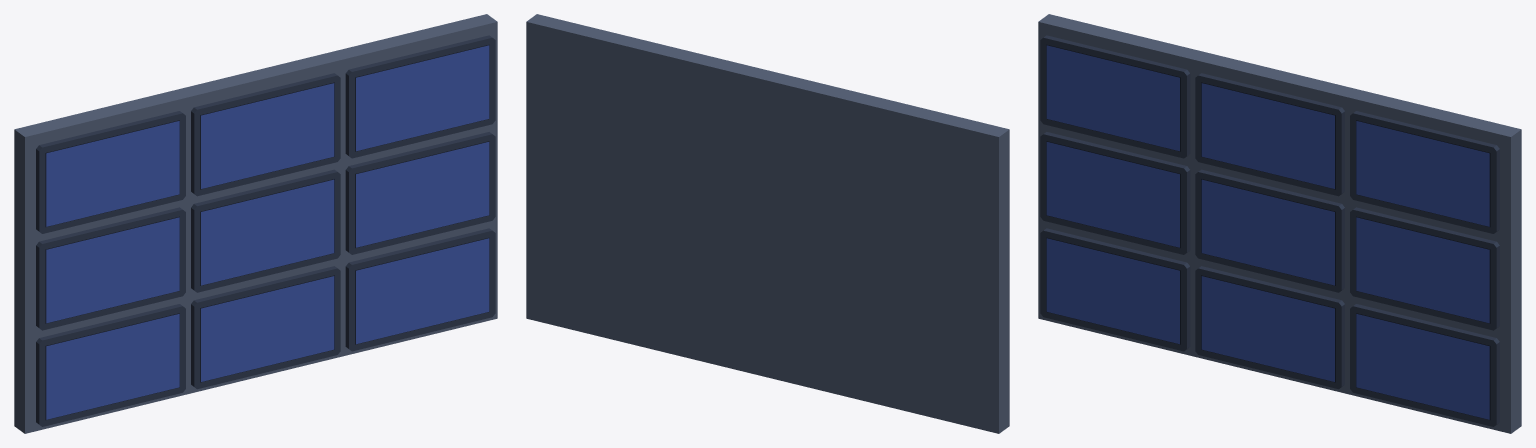
Rendered from res_cctv_monitor_wall.glb.
The picture shows the model from 3 angles, left to right: view 1: azimuth 30°, elevation 25°; view 2: azimuth 150°, elevation 25°; view 3: azimuth 330°, elevation 25°; orthographic projection.
Visible parts, largest first — view 1: print, print.001, screen_bezel, video_wall_mount, standby_glass; view 2: video_wall_mount; view 3: print, print.001, screen_bezel, video_wall_mount, standby_glass.
Boxes of the visible parts, box(x1,y1,x2,y2) form: print: box(46, 45, 489, 419); print.001: box(46, 83, 489, 381); screen_bezel: box(36, 35, 495, 426); video_wall_mount: box(14, 14, 497, 433); standby_glass: box(45, 44, 489, 420); video_wall_mount: box(526, 14, 1009, 433); print: box(1046, 45, 1489, 419); print.001: box(1046, 83, 1489, 381); screen_bezel: box(1040, 35, 1499, 426); video_wall_mount: box(1038, 14, 1521, 433); standby_glass: box(1046, 44, 1490, 420).
Bounding box in the file's own units: 4 × 2.4 × 0.25.
